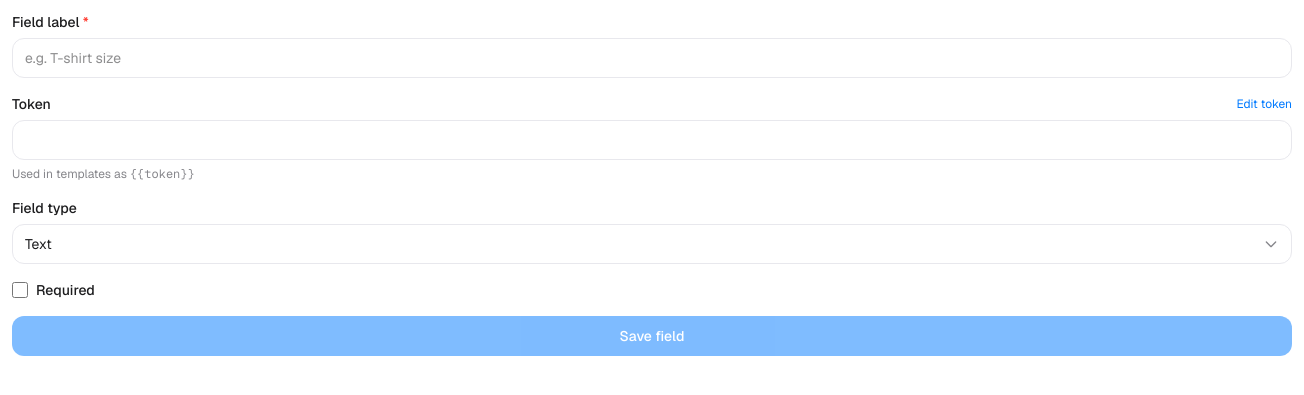
Test: FieldForm › shows error for duplicate token
Type "Test" into the field labelled "Field label *".
click(652, 58); type("Test")  # box [12, 38, 1292, 78]
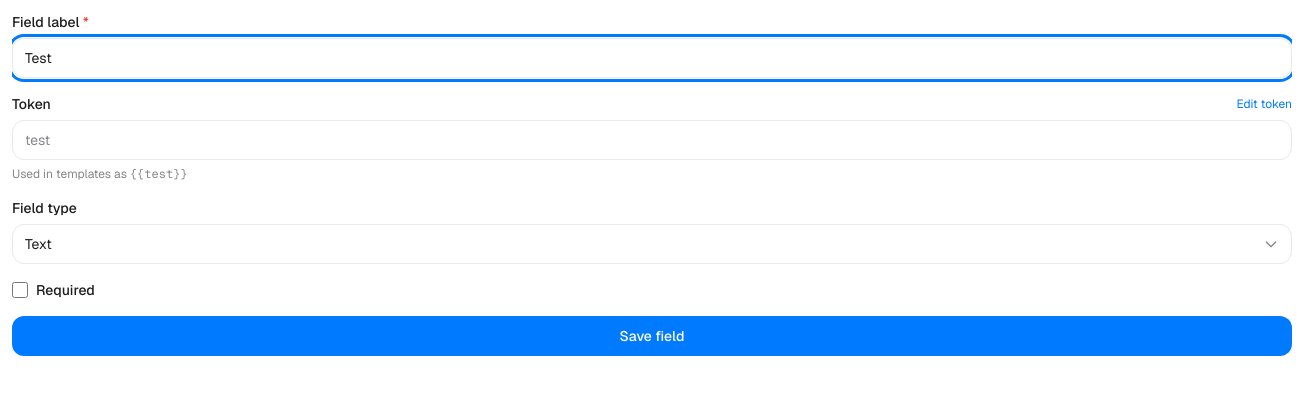
Click the button "Edit token".
click(1264, 104)  # box [1237, 96, 1292, 112]
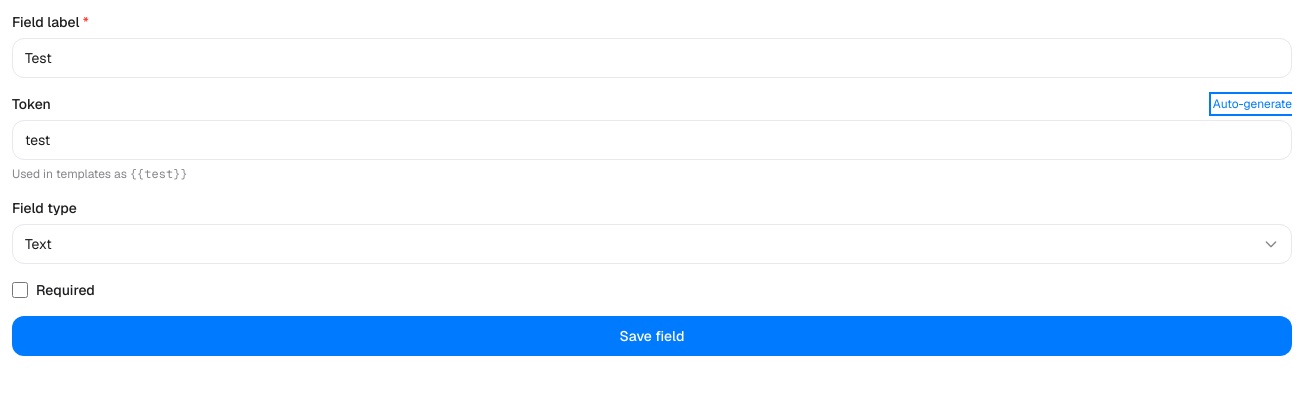
Replace the text in the field labelled "Token" with "existing_field" at point(652, 140), box [12, 120, 1292, 160]
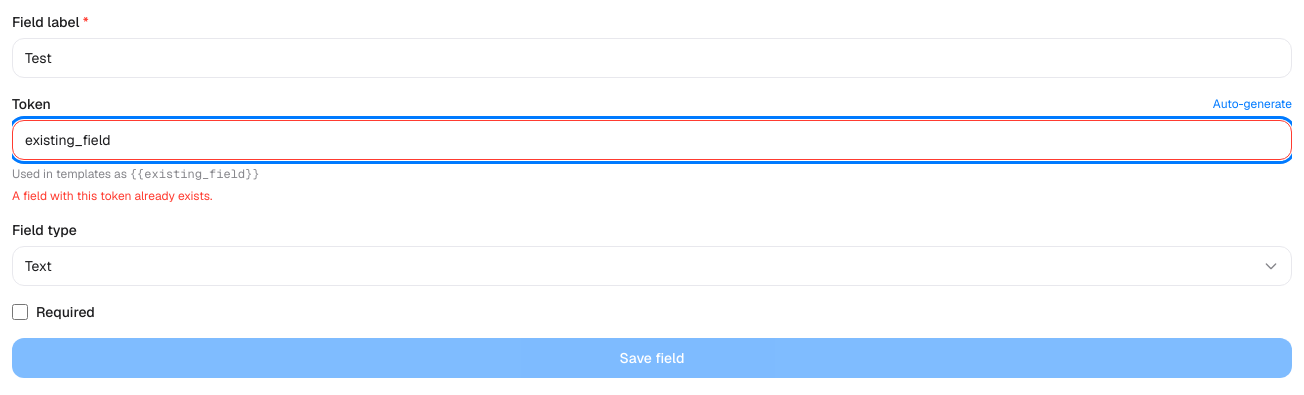
Check: the text "A field with this token already exists." is shown, box [12, 188, 212, 204]
